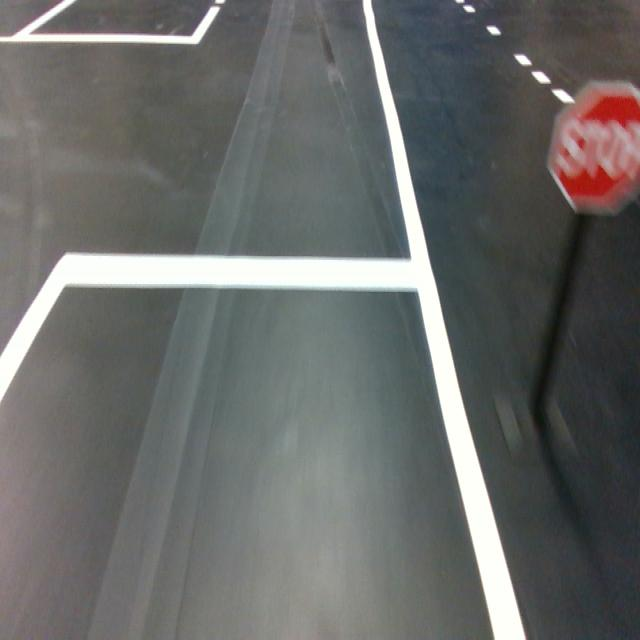stop-sign: (545, 77, 640, 216)
